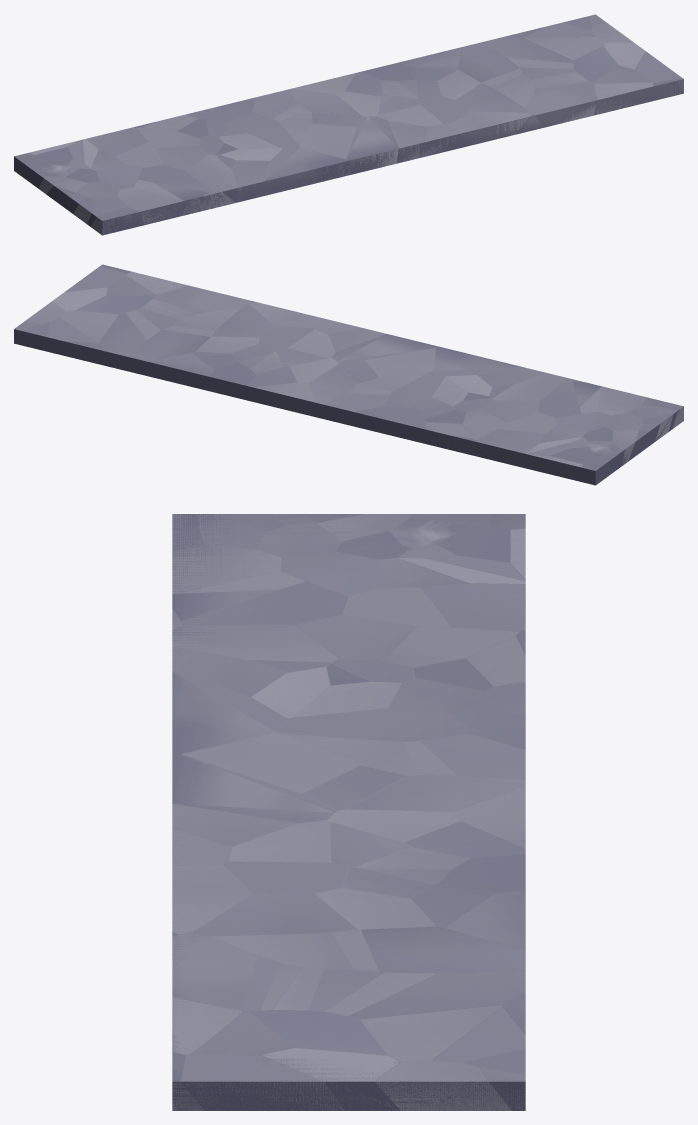
File: BreakingGround.fbx
The picture shows the model from 3 angles, top to bottom: view 1: azimuth 30°, elevation 25°; view 2: azimuth 150°, elevation 25°; view 3: azimuth 270°, elevation 25°; orthographic projection. The views are drawn at different scales.
Parts seen in each view (by area): view 1: Ground, c19, c20, c41, c13, c27, c26, c42, c54.001, c66, c8, c39 (+52 smaller); view 2: Ground, c20, c41, c19, c13, c26, c54.001, c42, c8, c39, c58, c60 (+51 smaller); view 3: Ground, c20, c41, c2, c19, c13, c26, c42, c54.001, c8, c39, c58 (+57 smaller).
Boxes of the visible parts, x1,y1,x2,y2 form: Ground: [14, 17, 683, 235]; c19: [526, 84, 596, 124]; c20: [458, 42, 519, 82]; c41: [300, 124, 355, 159]; c13: [482, 36, 573, 63]; c27: [449, 111, 531, 135]; c26: [455, 83, 527, 112]; c42: [237, 111, 299, 148]; c54.001: [186, 154, 238, 191]; c66: [117, 187, 183, 224]; c8: [523, 37, 606, 59]; c39: [286, 88, 360, 115]; Ground: [14, 266, 682, 485]; c20: [128, 330, 210, 361]; c41: [365, 348, 435, 377]; c19: [158, 285, 251, 311]; c13: [99, 313, 146, 356]; c26: [212, 305, 274, 337]; c54.001: [492, 373, 566, 400]; c42: [384, 371, 445, 407]; c8: [60, 310, 118, 343]; c39: [308, 364, 356, 415]; c58: [538, 380, 580, 417]; c60: [476, 429, 546, 455]; Ground: [172, 514, 525, 1110]; c20: [361, 926, 525, 973]; c41: [181, 732, 359, 793]; c2: [375, 1060, 511, 1110]; c19: [172, 934, 257, 1010]; c13: [348, 970, 525, 1019]; c26: [191, 893, 357, 936]; c42: [277, 708, 469, 742]; c54.001: [172, 625, 337, 661]; c8: [360, 1005, 502, 1061]; c39: [347, 774, 525, 811]; c58: [182, 581, 348, 624].
Bounding box in the file's own units: 640 × 15.29 × 168.
Materials: 1 (1 with a texture image).
